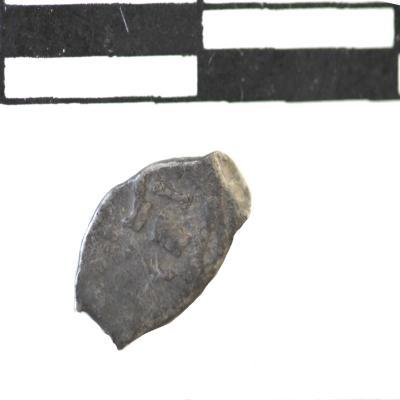archeology: (74, 150, 253, 351)
